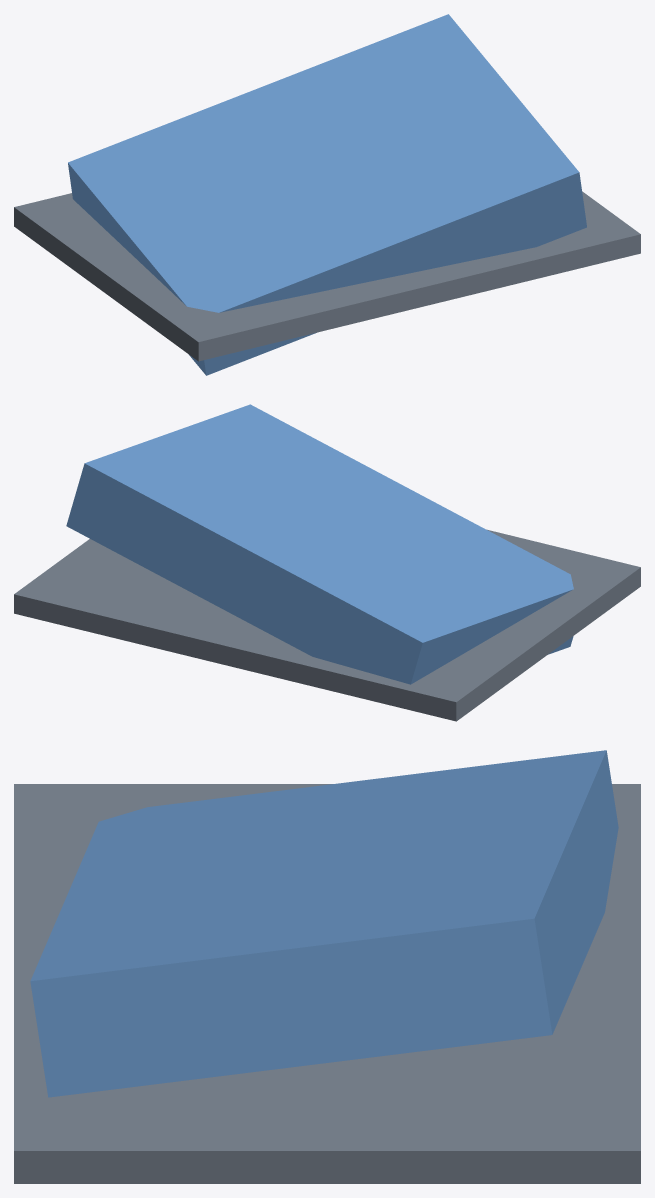
File: discount-store-wreck.glb
The picture shows the model from 3 angles, top to bottom: view 1: azimuth 30°, elevation 25°; view 2: azimuth 150°, elevation 25°; view 3: azimuth 270°, elevation 25°; orthographic projection. The views are drawn at different scales.
Visible parts, largest first — view 1: Root; view 2: Root; view 3: Root.
Boxes of the visible parts, <box> form: Root: <box>14,14,640,375</box>; Root: <box>14,404,640,721</box>; Root: <box>14,750,640,1183</box>.
Bounding box in the file's own units: 14.4 × 5.72 × 10.4.
